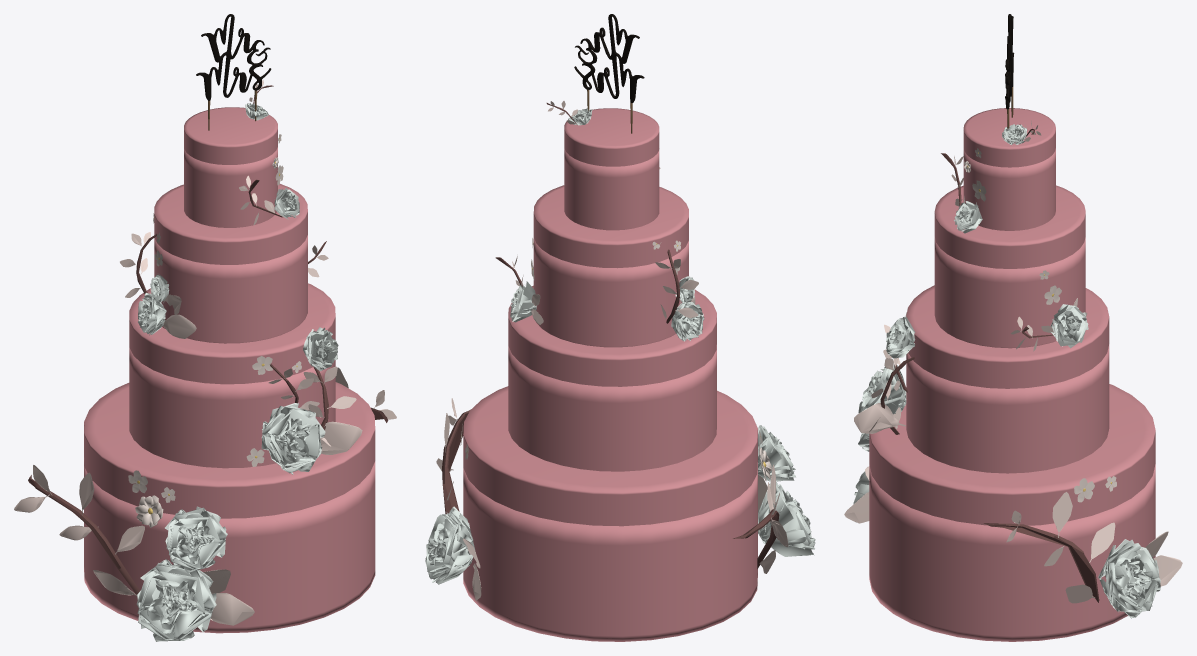
The model's file is 4-tier-blush-roses-mrms.glb.
3 views of the same model, side by side, from view 1: azimuth 30°, elevation 25°; view 2: azimuth 150°, elevation 25°; view 3: azimuth 270°, elevation 25° (orthographic).
Parts seen in each view (by area): view 1: 3.001, 3, 2, 1, grid.013, Plane.024, grid.016, grid.012, mrms.002, grid.015, Plane.009, Plane.022 (+7 smaller); view 2: 3.001, 3, 2, 1, grid.020, mrms.002, grid.013, Plane.008, Plane.024, grid.012, grid.017, Plane.023 (+1 smaller); view 3: 3.001, 3, 2, 1, grid.020, Plane.008, grid.016, grid.019, Plane.009, grid.015, mrms.002, grid.021 (+3 smaller).
Part boxes in pixels (<box>): 3.001: <box>84,382,375,633</box>; 3: <box>129,283,335,468</box>; 2: <box>154,184,307,343</box>; 1: <box>184,107,277,227</box>; grid.013: <box>136,559,216,641</box>; Plane.024: <box>14,465,144,595</box>; grid.016: <box>261,403,325,474</box>; grid.012: <box>165,506,227,572</box>; mrms.002: <box>196,14,271,130</box>; grid.015: <box>303,327,338,371</box>; Plane.009: <box>320,421,362,454</box>; Plane.022: <box>210,593,254,625</box>; 3.001: <box>463,386,757,641</box>; 3: <box>508,285,716,471</box>; 2: <box>533,185,688,347</box>; 1: <box>564,108,659,230</box>; grid.020: <box>425,506,475,584</box>; mrms.002: <box>574,14,644,133</box>; grid.013: <box>758,482,815,556</box>; Plane.008: <box>436,398,470,514</box>; Plane.024: <box>733,464,788,573</box>; grid.012: <box>756,424,795,481</box>; grid.017: <box>671,302,704,341</box>; Plane.023: <box>655,249,698,323</box>; 3.001: <box>869,384,1155,641</box>; 3: <box>906,285,1109,473</box>; 2: <box>934,185,1085,348</box>; 1: <box>963,108,1055,230</box>; grid.020: <box>1098,539,1160,618</box>; Plane.008: <box>983,492,1115,603</box>; grid.016: <box>858,365,906,414</box>; grid.019: <box>1050,304,1088,348</box>; Plane.009: <box>854,403,905,433</box>; grid.015: <box>886,317,915,358</box>; mrms.002: <box>1005,14,1014,128</box>; grid.021: <box>954,201,982,233</box>.
Size of the model in its own units: 6.25 by 9.28 by 5.05.
